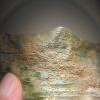Corn rust leaf: (19, 30, 99, 99)
